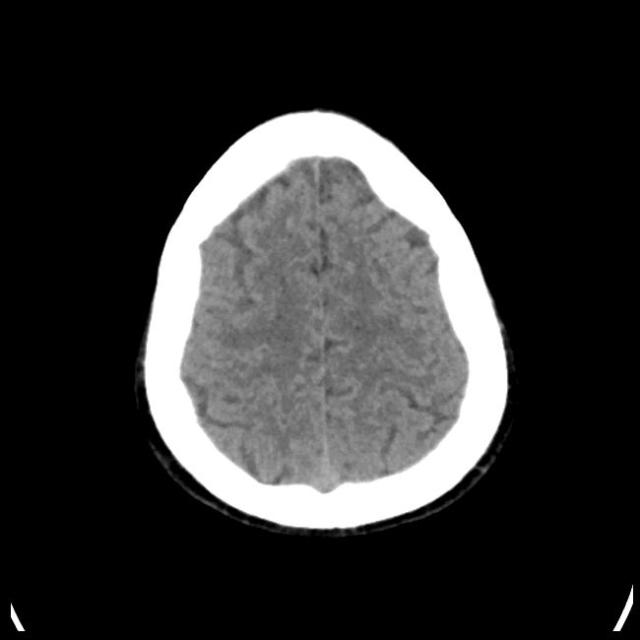lesion: (136, 106, 516, 538)
